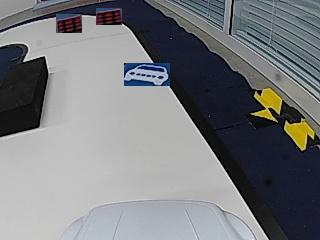block: (0, 54, 47, 137)
